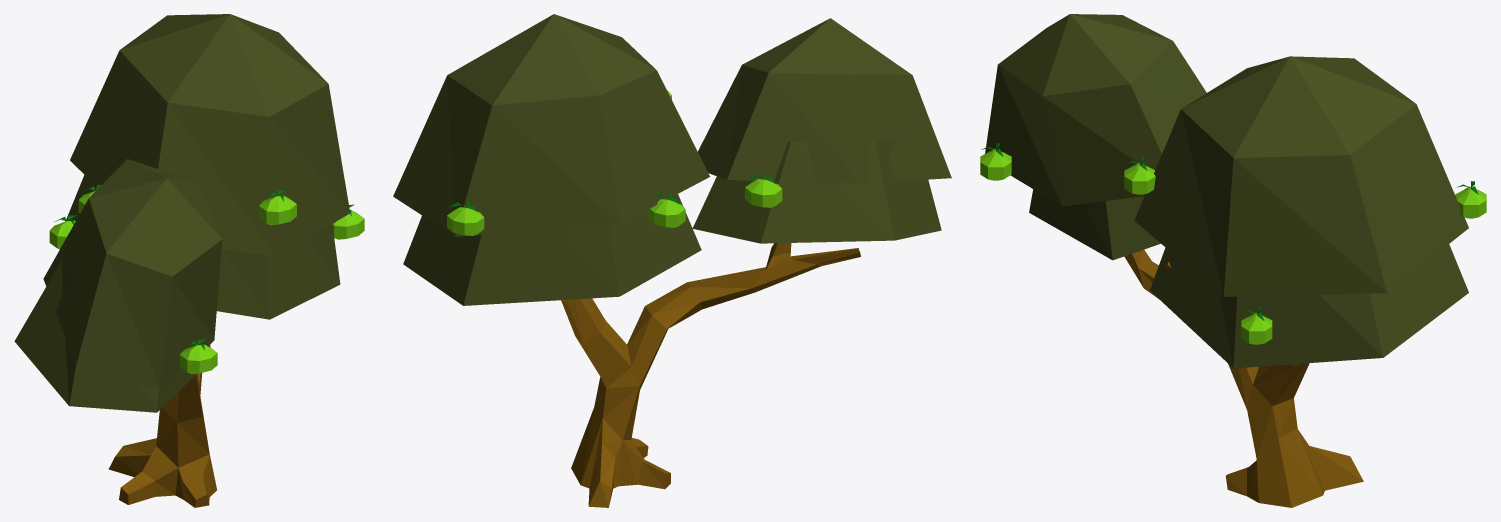
The model's file is fruit-tree.gltf.
3 views of the same model, side by side, from view 1: azimuth 30°, elevation 25°; view 2: azimuth 150°, elevation 25°; view 3: azimuth 270°, elevation 25° (orthographic). The views are drawn at different scales.
Size of the model in its own units: 237 by 261 by 260.
Materials: 1 (1 with a texture image).
